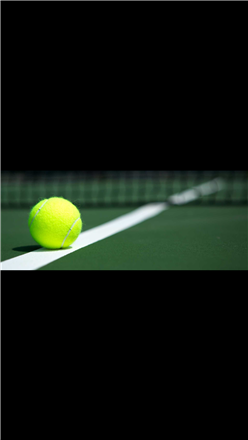tennis_ball: (27, 195, 82, 253)
